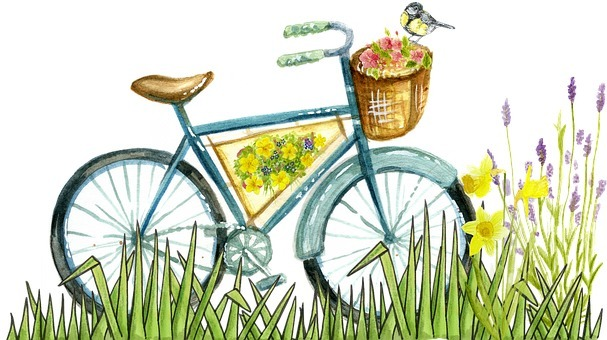bicycle: (45, 17, 486, 316)
bird: (397, 1, 457, 45)
